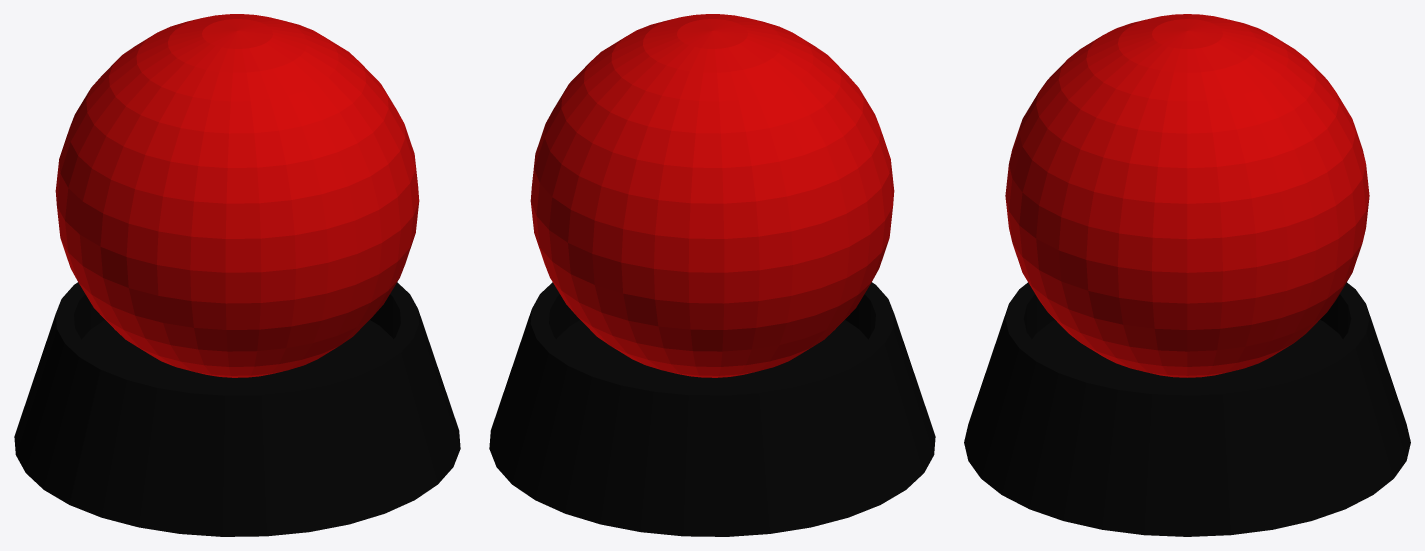
Rendered from ObjetivoLV5.fbx.
3 renders of one model, left to right at view 1: azimuth 30°, elevation 25°; view 2: azimuth 150°, elevation 25°; view 3: azimuth 270°, elevation 25°, orthographic.
Parts seen in each view (by area): view 1: Sphere, Circle; view 2: Sphere, Circle; view 3: Sphere, Circle.
Boxes of the visible parts, x1,y1,x2,y2 form: Sphere: (55,14,419,377); Circle: (14,282,460,536); Sphere: (530,14,894,377); Circle: (489,282,935,536); Sphere: (1005,14,1369,377); Circle: (964,282,1410,536).
Bounding box in the file's own units: 491 × 499 × 491.
